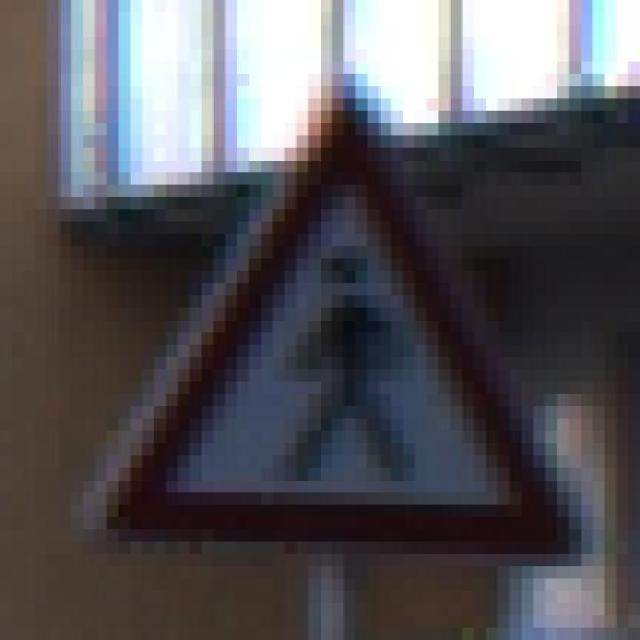Pedestrian Crossing: (95, 61, 593, 578)
